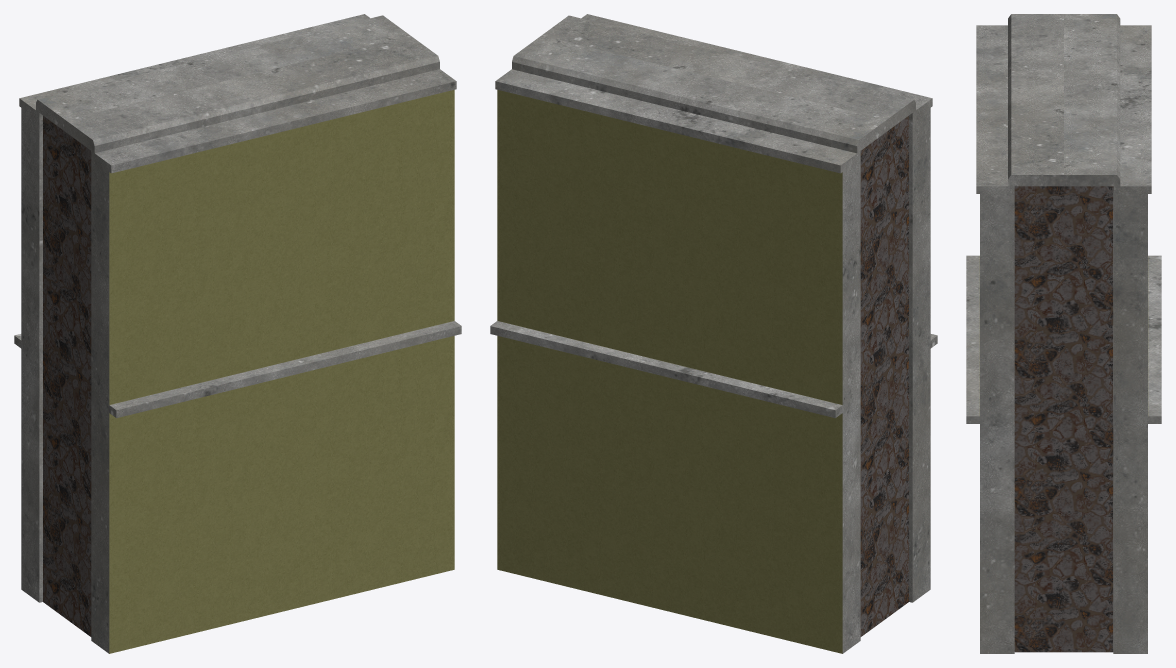
The model's file is wall_small.glb.
The picture shows the model from 3 angles, left to right: view 1: azimuth 30°, elevation 25°; view 2: azimuth 150°, elevation 25°; view 3: azimuth 270°, elevation 25°; orthographic projection. The views are drawn at different scales.
Parts seen in each view (by area): view 1: WallSmall; view 2: WallSmall; view 3: WallSmall.
Part boxes in pixels (x1=…): WallSmall: x1=14, y1=14, x2=461, y2=653; WallSmall: x1=490, y1=14, x2=937, y2=653; WallSmall: x1=966, y1=14, x2=1161, y2=653.
Size of the model in its own units: 3 by 4.17 by 1.54.
1 material, 1 textured.
